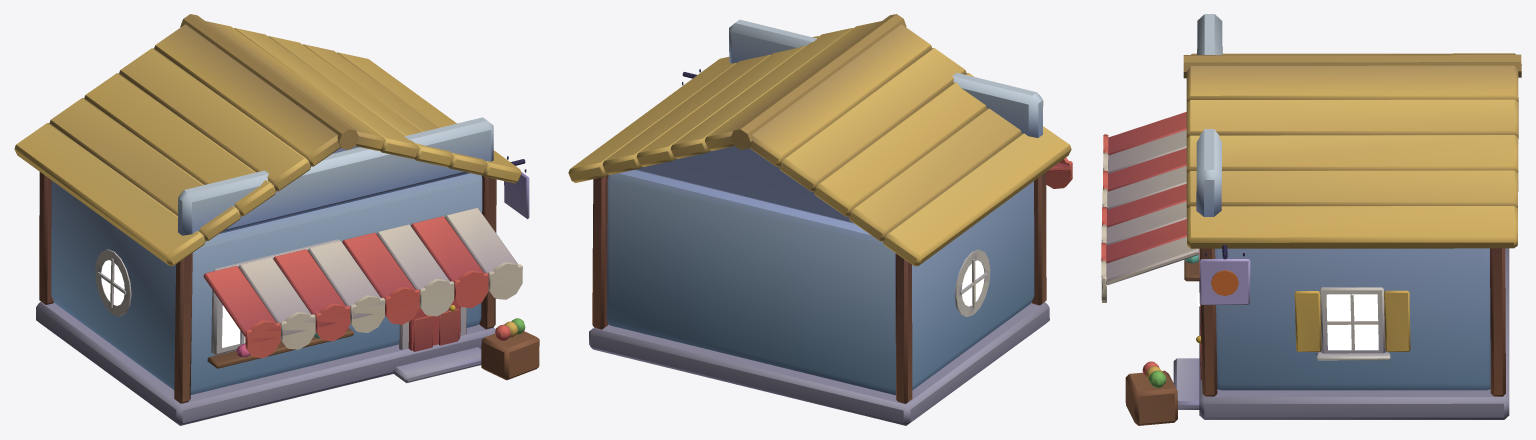
File: common_town_shop.glb
3 views of the same model, side by side, from view 1: azimuth 30°, elevation 25°; view 2: azimuth 150°, elevation 25°; view 3: azimuth 270°, elevation 25° (orthographic). The views are drawn at different scales.
Visible parts, largest first — view 1: common_town_shop; view 2: common_town_shop; view 3: common_town_shop.
Part boxes in pixels (left/top/right/bottom): common_town_shop: left=14, top=14, right=539, bottom=425; common_town_shop: left=568, top=14, right=1072, bottom=425; common_town_shop: left=1101, top=14, right=1521, bottom=425.
Size of the model in its own units: 7.32 by 4.95 by 6.65.
